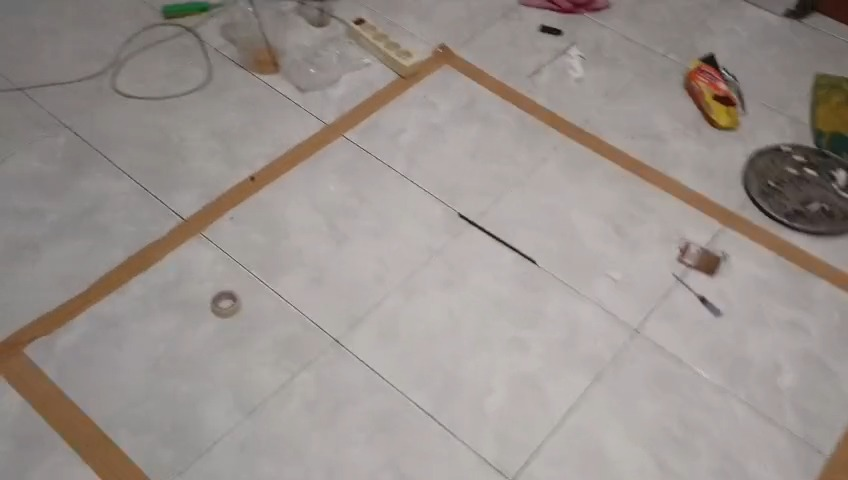floor marking: (0, 45, 847, 479)
